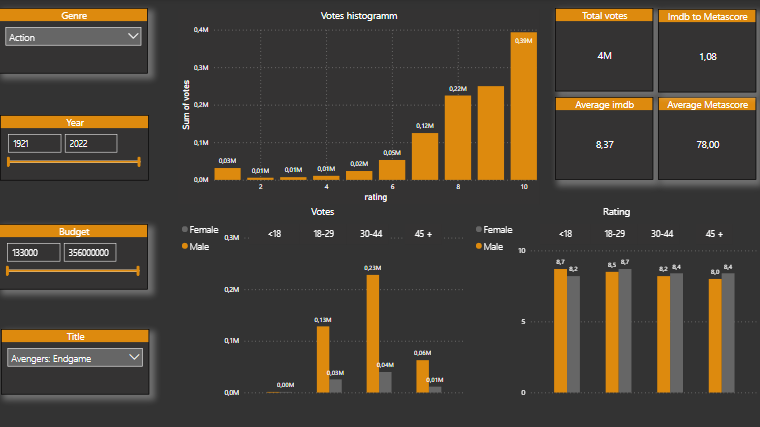

The page's visual inventory and layout, read from the dashboard file:
{"tool":"powerbi","page":{"name":"Vote details","canvas":[1280,720],"ordinal":2},"visuals":[{"type":"columnChart","title":"Votes histogramm","fields":{"Category":["movies_vote_details.rating"],"Y":["Sum(movies_vote_details.votes)"]},"box":[300.7,16.8,608.1,329.2],"z":0},{"type":"slicer","title":"Title","fields":{"Values":["movies_main.original title"]},"box":[3.4,554.3,248.6,110],"z":1000},{"type":"slicer","title":"Year","fields":{"Values":["movies_main.year"]},"box":[1.7,194.9,250.3,110],"z":2000},{"type":"slicer","title":"Budget","fields":{"Values":["movies_main.Budget"]},"box":[0,378,250.3,110],"z":3000},{"type":"slicer","title":"Genre","fields":{"Values":["movies_genres.genre"]},"box":[0,15,250.3,110],"z":4000},{"type":"clusteredColumnChart","title":"Votes","fields":{"Series":["movies_vote_demographics.Sex"],"Category":["movies_vote_demographics.Category"],"Y":["Sum(movies_vote_demographics.Votes)"]},"box":[300.7,346,485.5,329.2],"z":5000},{"type":"textbox","box":[682,378,62.2,33.6],"z":6000},{"type":"textbox","box":[582.9,378,72.2,33.6],"z":7000},{"type":"textbox","box":[503.9,378,79,33.6],"z":8000},{"type":"textbox","box":[419.9,378,84,33.6],"z":9000},{"type":"clusteredColumnChart","title":"Rating","fields":{"Series":["movies_vote_demographics.Sex"],"Category":["movies_vote_demographics.Category"],"Y":["Avg(movies_vote_demographics.Rating)"]},"box":[794.5,346,485.5,329.2],"z":10000},{"type":"textbox","box":[1170.6,378,62.2,33.6],"z":11000},{"type":"textbox","box":[1071.5,378,72.2,33.6],"z":12000},{"type":"textbox","box":[992.5,378,79,33.6],"z":13000},{"type":"textbox","box":[908.5,378,84,33.6],"z":14000},{"type":"card","title":"Total votes","fields":{"Values":["Sum(movies_vote_demographics.Votes)"]},"box":[934,15.1,165,140],"z":15000},{"type":"card","title":"Average imdb","fields":{"Values":["Avg(movies_vote_demographics.Rating)"]},"box":[934,164.6,164.6,139.4],"z":16000},{"type":"card","title":"Average Metascore","fields":{"Values":["Avg(movies_main.metascore)"]},"box":[1107,164.6,164.6,139.4],"z":17000},{"type":"card","title":"Imdb to Metascore","fields":{"Values":["My measures.Imdb to Metascore"]},"box":[1107,16.8,164.6,140],"z":18000}]}

Visuals, with their boxes in screenshot pixels (x1, y1, x2, y2), scaled from the page's 1280x720 canvas onto the 760x427 screenshot:
"Votes histogramm" columnChart: 179:10:540:205
"Title" slicer: 2:329:150:394
"Year" slicer: 1:116:150:181
"Budget" slicer: 0:224:149:289
"Genre" slicer: 0:9:149:74
"Votes" clusteredColumnChart: 179:205:467:400
textbox: 405:224:442:244
textbox: 346:224:389:244
textbox: 299:224:346:244
textbox: 249:224:299:244
"Rating" clusteredColumnChart: 472:205:759:400
textbox: 695:224:732:244
textbox: 636:224:679:244
textbox: 589:224:636:244
textbox: 539:224:589:244
"Total votes" card: 555:9:653:92
"Average imdb" card: 555:98:652:180
"Average Metascore" card: 657:98:755:180
"Imdb to Metascore" card: 657:10:755:93
